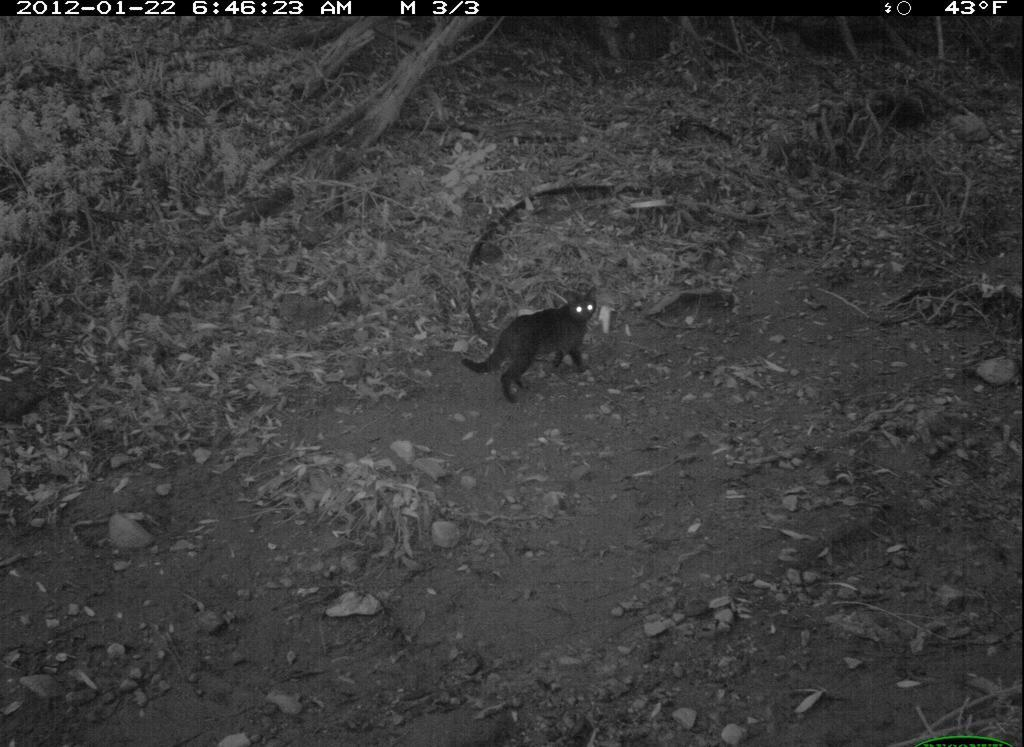cat: (456, 283, 630, 414)
